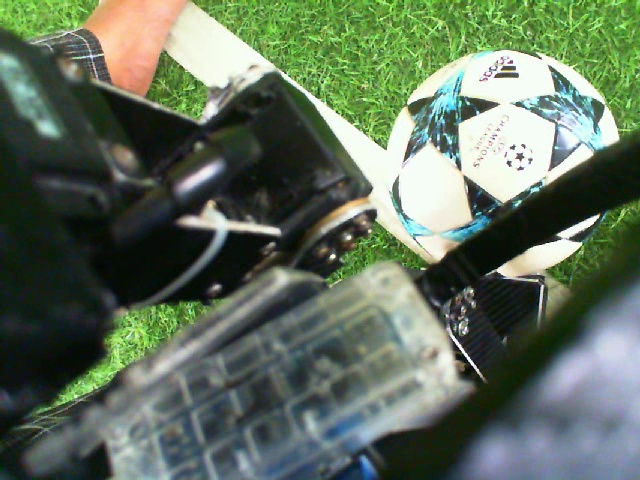ball: (383, 46, 623, 197)
